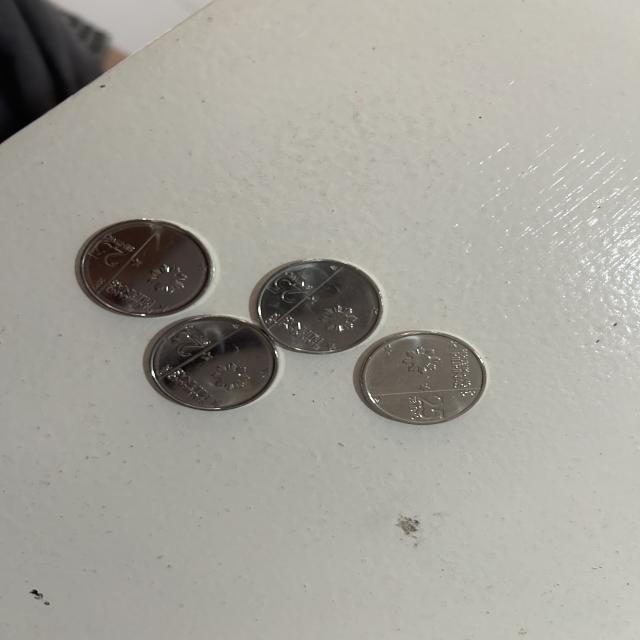25Cent_New_Front: (79, 235, 134, 268), (402, 392, 454, 421), (160, 323, 217, 349), (267, 272, 315, 302)
